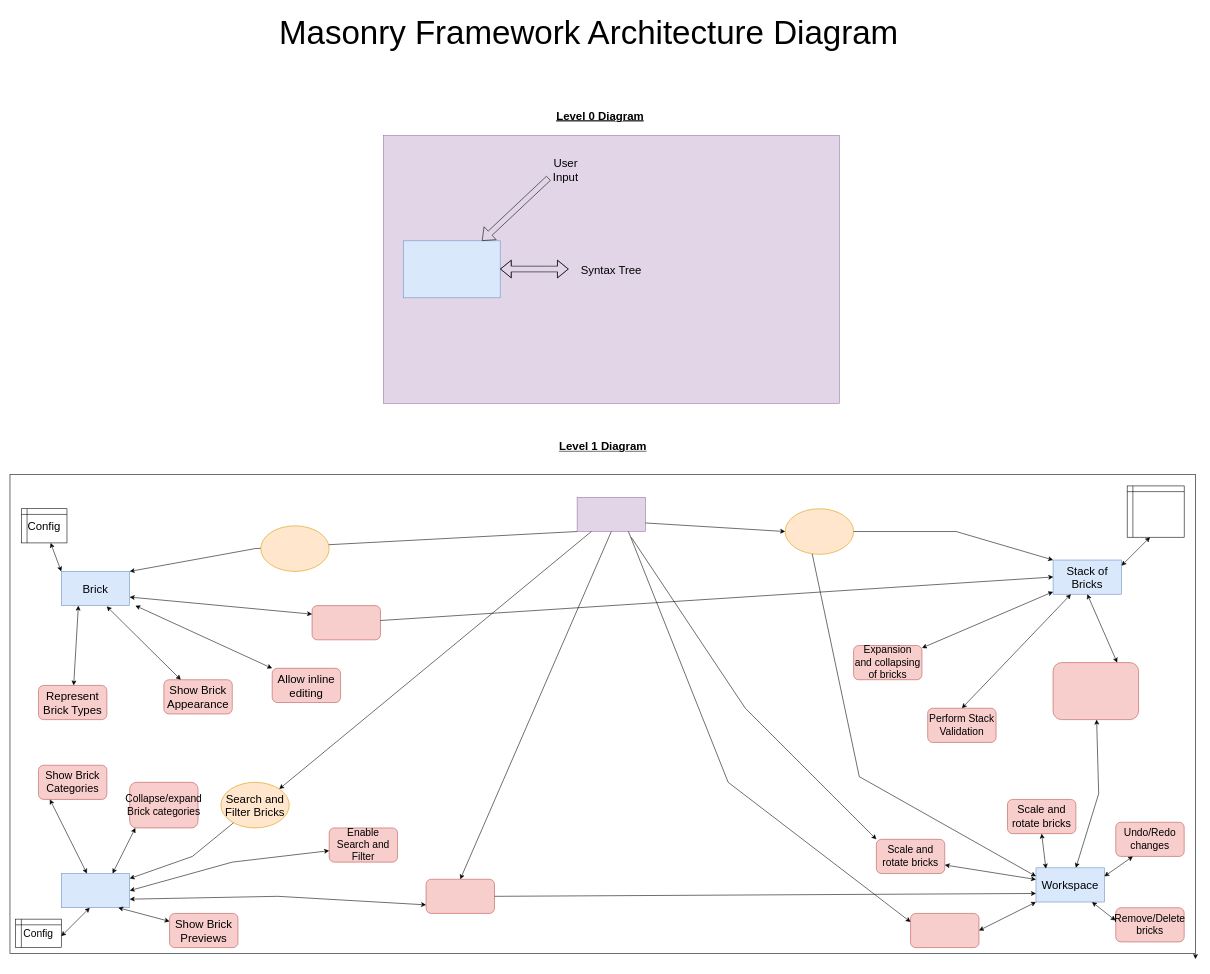
This 1210x974 diagram has some shape labels left out. Each missing label, with the centre of its shape:
Config( bounding boxes): pixel 1155 511
Drag and drop Bricks: pixel 460 896
Duplicate/clone bricks: pixel 944 930
Edit Brick Properties: pixel 294 548
Masonry Framework: pixel 451 269
Palette: pixel 95 890
Perform Stack Editing: pixel 819 531
Stack Repositioning, connecting , disconnecting: pixel 1096 691
Support connections: pixel 346 622
User: pixel 611 514
